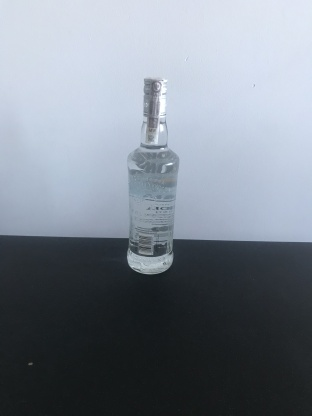nakretka: (140, 74, 170, 120)
